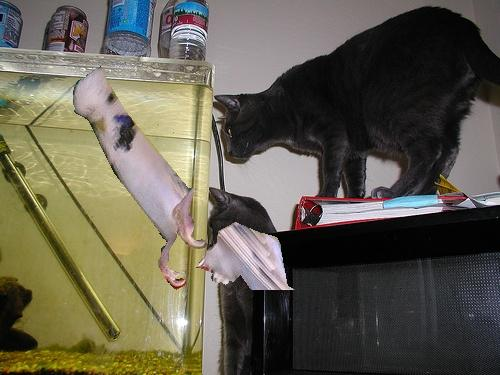tampered: (74, 67, 296, 290)
